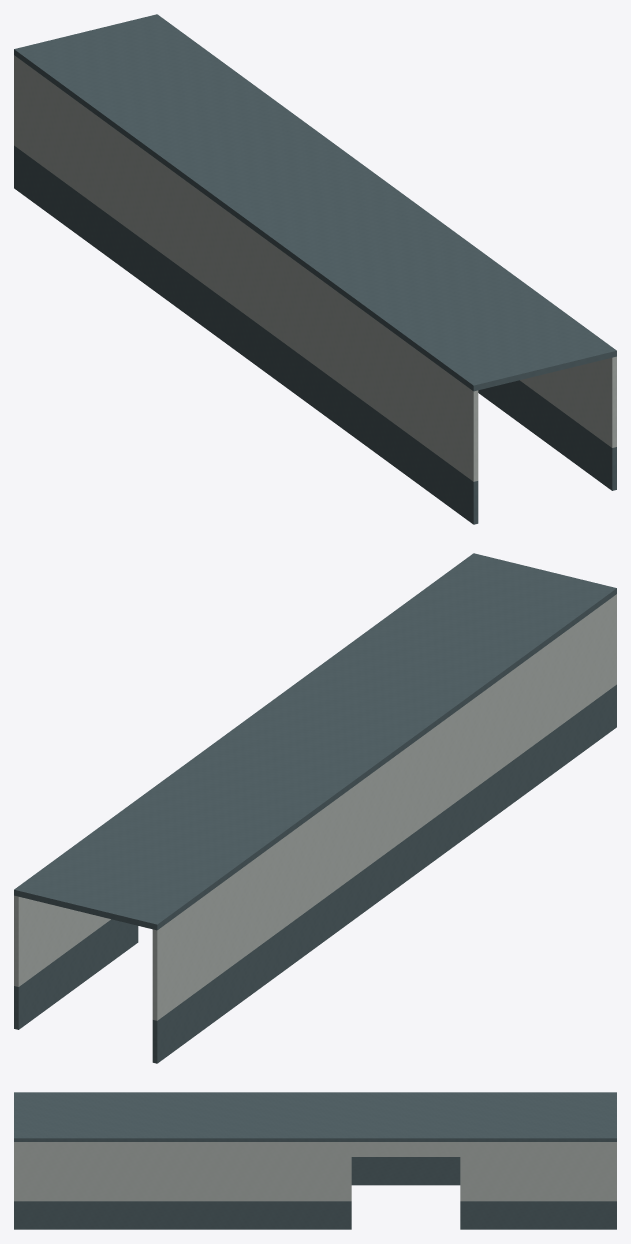
File: AST-STF-G3-052.glb
3 renders of one model, top to bottom at view 1: azimuth 30°, elevation 25°; view 2: azimuth 150°, elevation 25°; view 3: azimuth 270°, elevation 25°, orthographic. The views are drawn at different scales.
Visible parts, largest first — view 1: HOME_BATCH_023_ASTRAEA_staff_bluegrey_paint, HOME_BATCH_190_ASTRAEA_staff_white_paint; view 2: HOME_BATCH_023_ASTRAEA_staff_bluegrey_paint, HOME_BATCH_190_ASTRAEA_staff_white_paint; view 3: HOME_BATCH_023_ASTRAEA_staff_bluegrey_paint, HOME_BATCH_190_ASTRAEA_staff_white_paint.
Part boxes in pixels (bbox=[...]): HOME_BATCH_023_ASTRAEA_staff_bluegrey_paint: bbox=[14, 14, 616, 524]; HOME_BATCH_190_ASTRAEA_staff_white_paint: bbox=[14, 55, 616, 481]; HOME_BATCH_023_ASTRAEA_staff_bluegrey_paint: bbox=[14, 553, 616, 1063]; HOME_BATCH_190_ASTRAEA_staff_white_paint: bbox=[14, 594, 616, 1020]; HOME_BATCH_023_ASTRAEA_staff_bluegrey_paint: bbox=[14, 1092, 616, 1229]; HOME_BATCH_190_ASTRAEA_staff_white_paint: bbox=[14, 1142, 616, 1201].
Bounding box in the file's own units: 3.6 × 3.34 × 20.
Materials: 2 (2 with a texture image).
